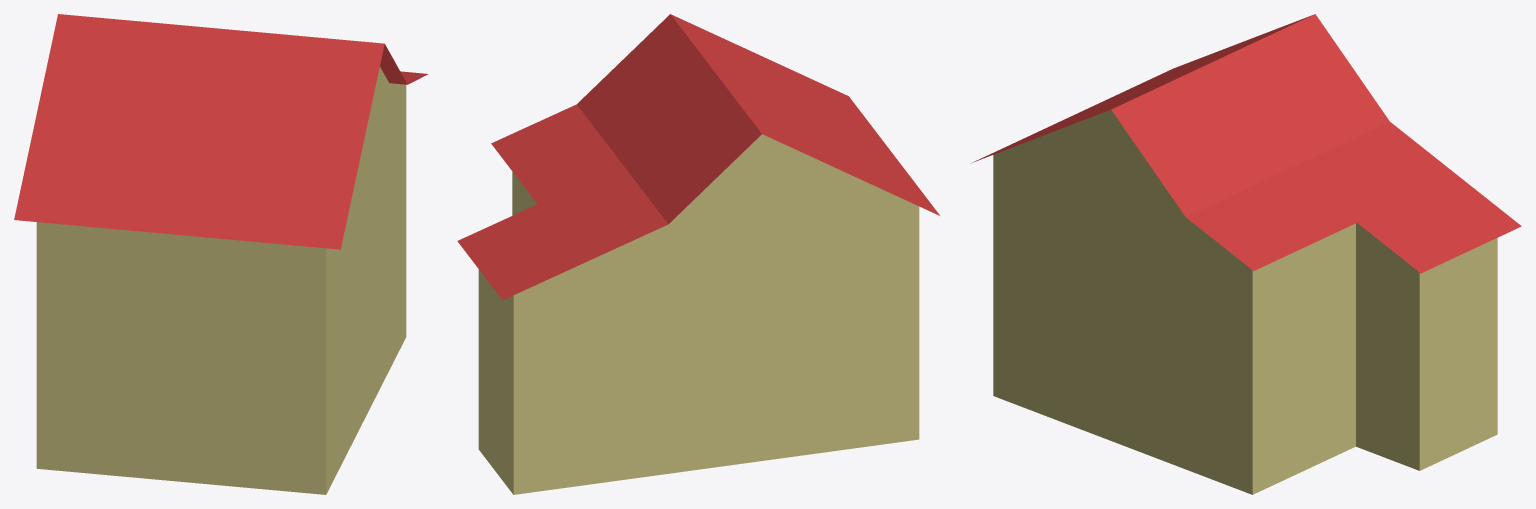
The picture shows the model from 3 angles, left to right: view 1: azimuth 30°, elevation 25°; view 2: azimuth 150°, elevation 25°; view 3: azimuth 270°, elevation 25°; orthographic projection. The views are drawn at different scales.
Size of the model in its own units: 14.01 by 16.02 by 10.91.
